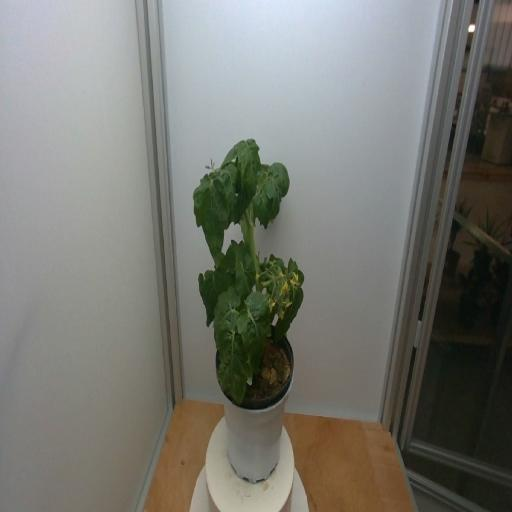Tomato-Leaves-Cupboard-: (193, 166, 230, 272), (215, 323, 252, 410), (240, 288, 272, 373), (192, 273, 230, 328), (232, 138, 264, 203), (272, 287, 305, 348), (213, 293, 248, 347), (264, 157, 290, 210), (218, 238, 247, 282), (218, 157, 240, 207), (234, 261, 259, 300), (252, 190, 274, 231), (266, 248, 286, 278)
